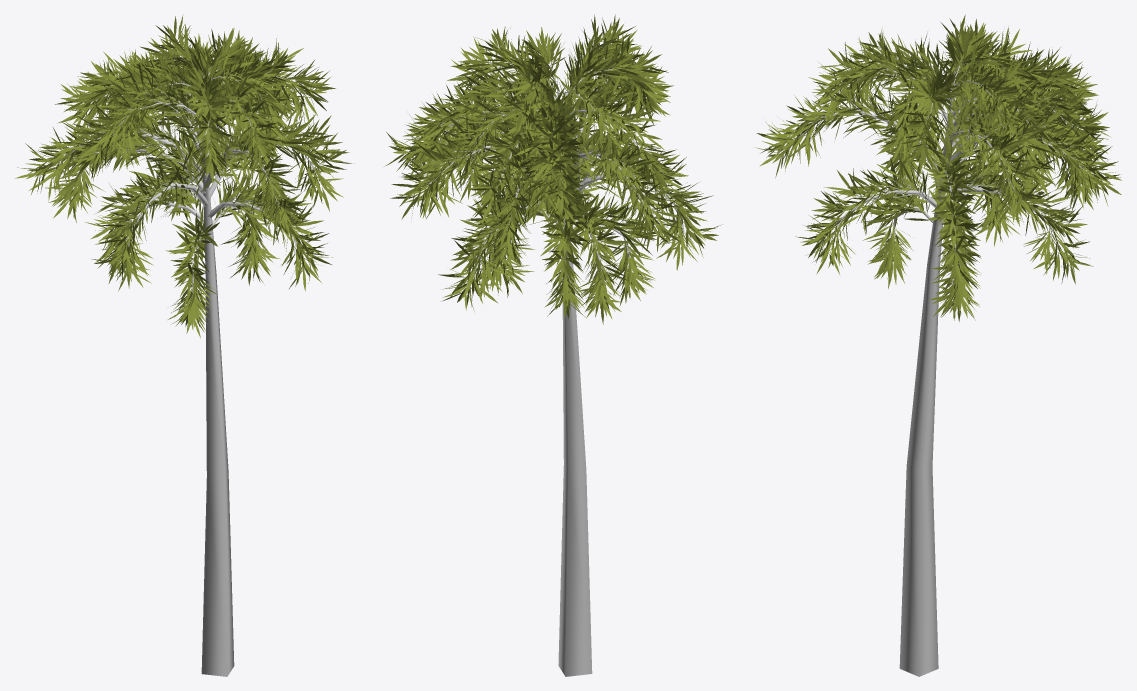
The model's file is Palm_Tree.fbx.
3 views of the same model, side by side, from view 1: azimuth 30°, elevation 25°; view 2: azimuth 150°, elevation 25°; view 3: azimuth 270°, elevation 25° (orthographic). The views are drawn at different scales.
Visible parts, largest first — view 1: tree; view 2: tree; view 3: tree.
Part boxes in pixels (box(x1,y1,x2,y2)): tree: box(15, 14, 354, 676); tree: box(384, 14, 720, 676); tree: box(756, 14, 1121, 676).
Size of the model in its own units: 382 by 749 by 390.
